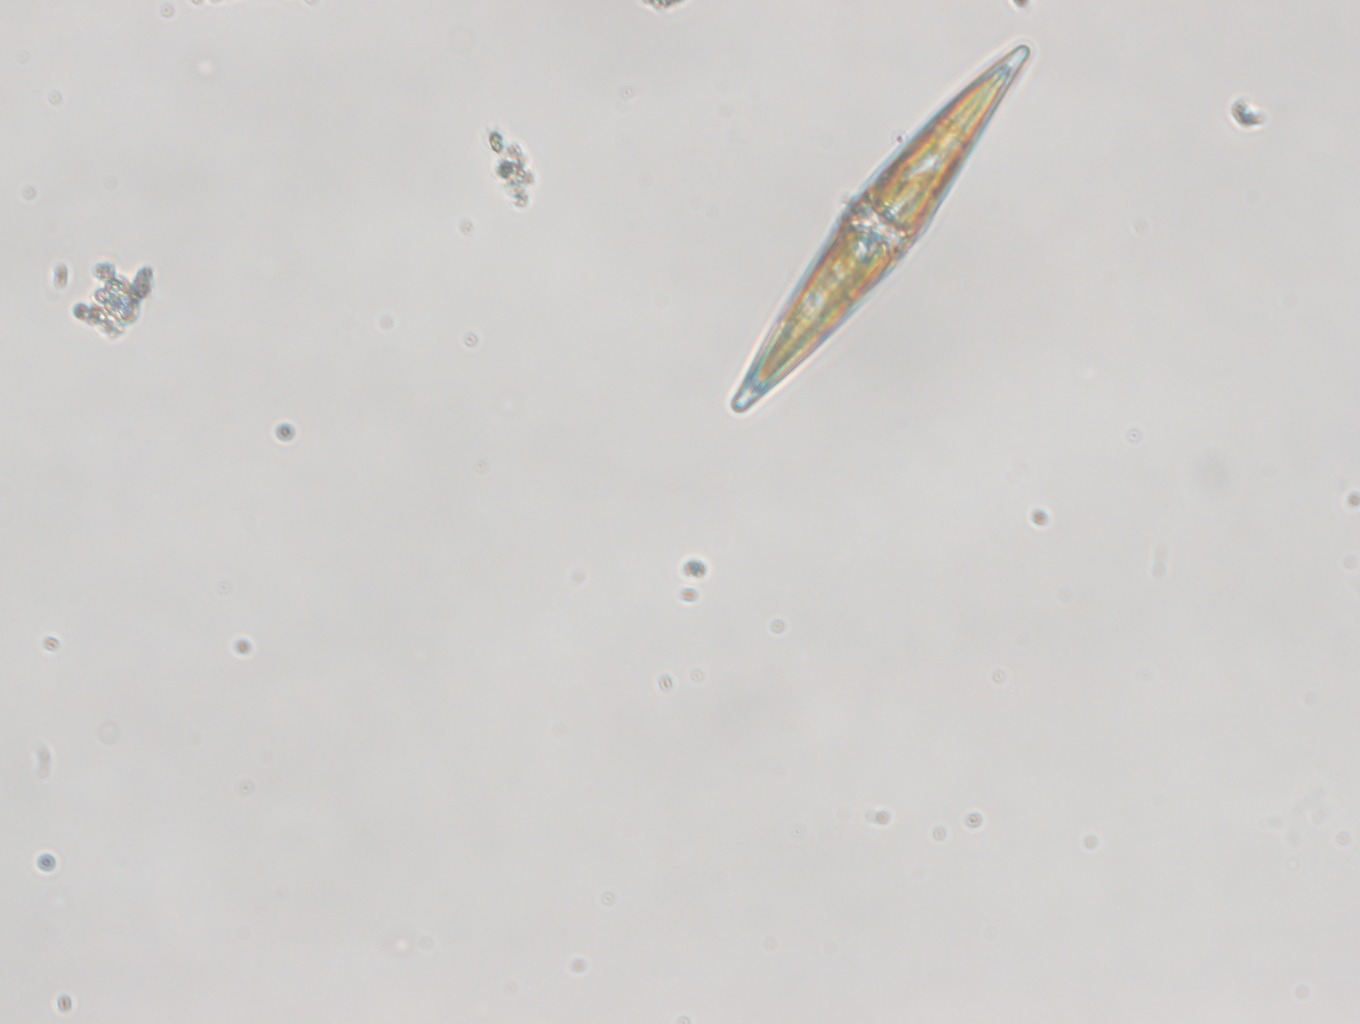navicula: (729, 35, 1037, 421)
